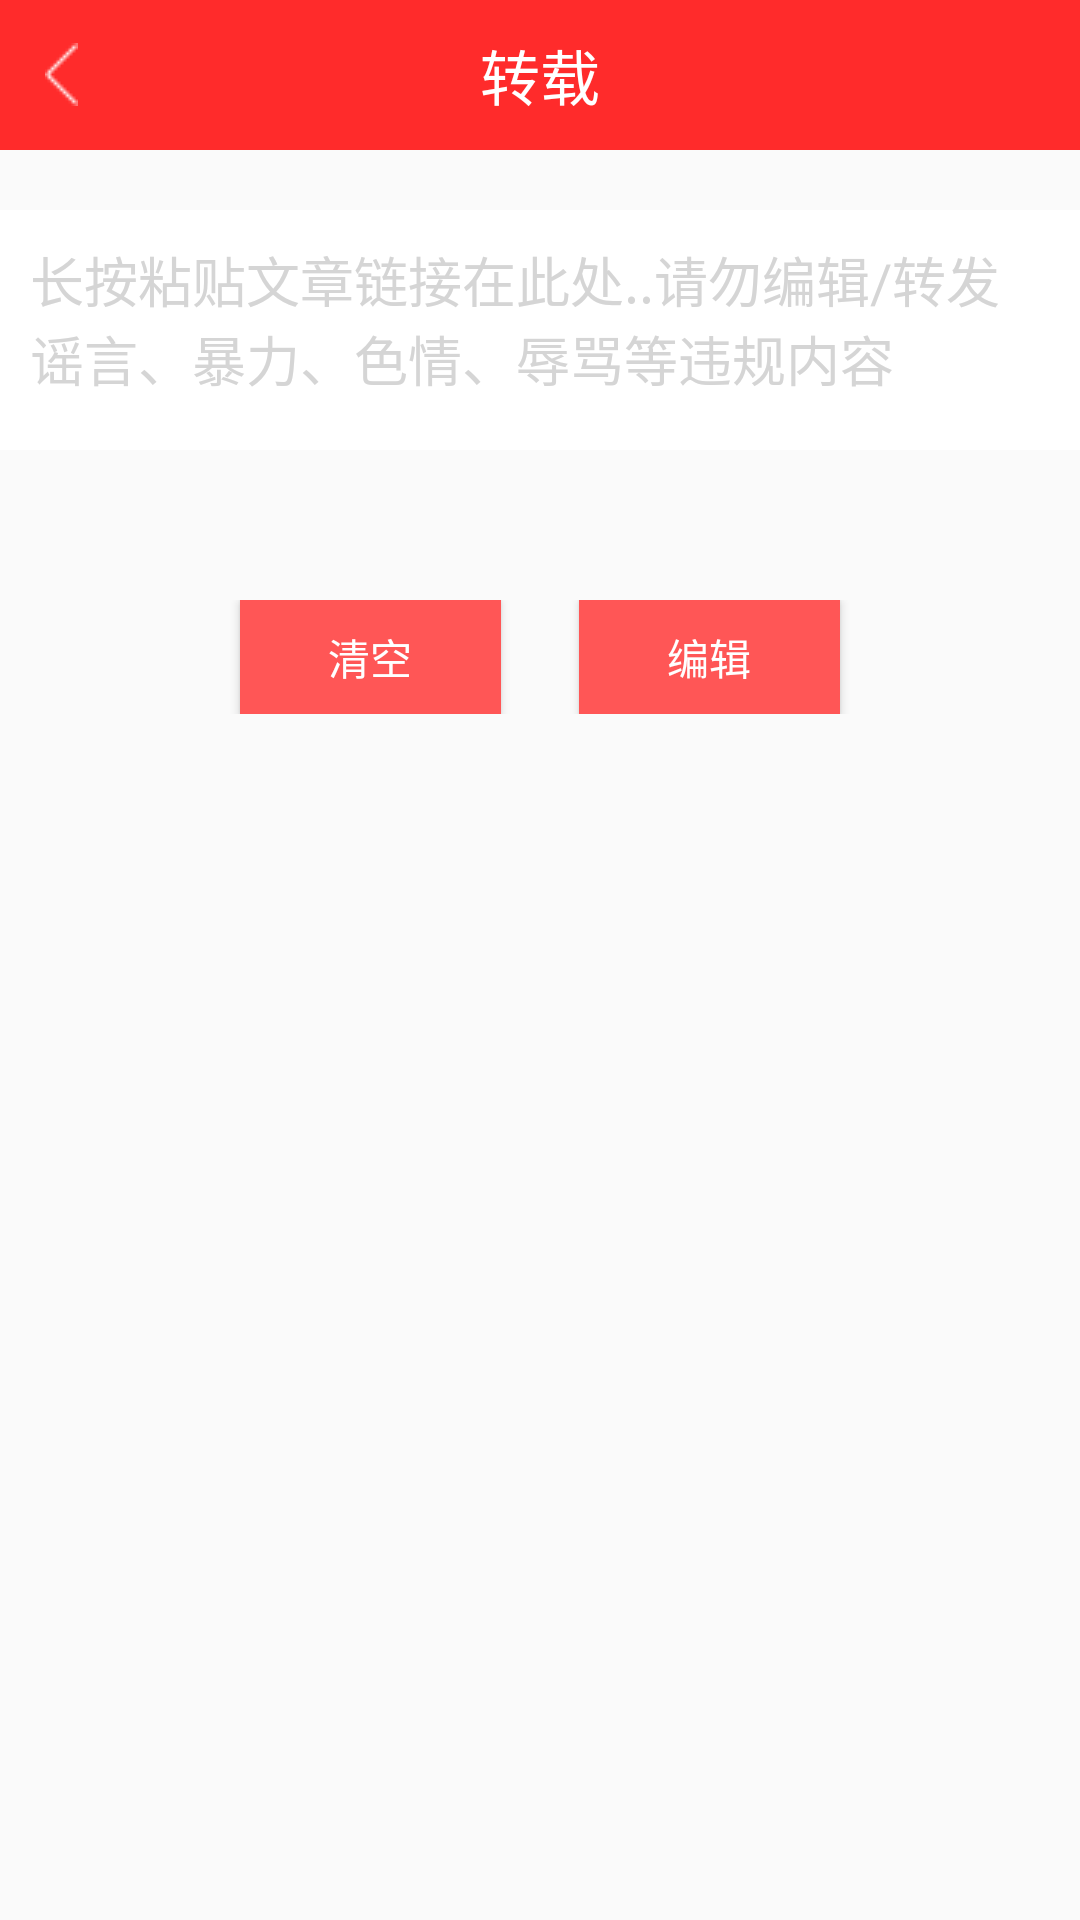

Where icons sit on this 1080px×1920px app screen, as (x1,y1,x2,y2):
fanhui: (45,43,78,106)
